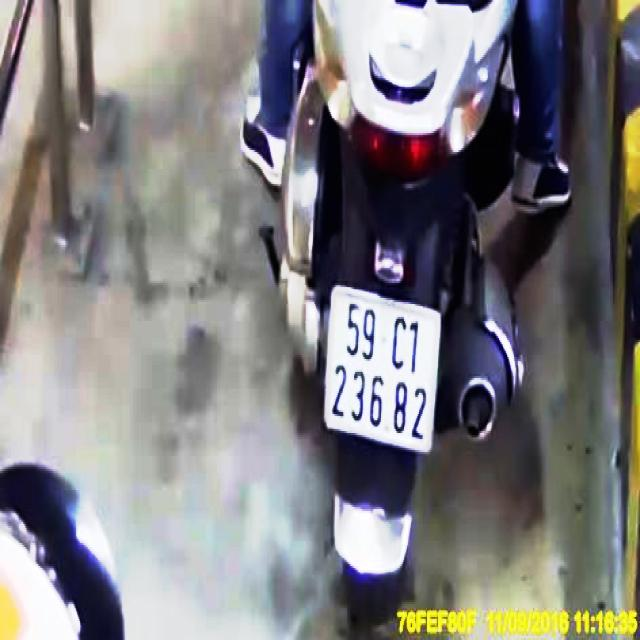license_plate: (326, 285, 442, 450)
